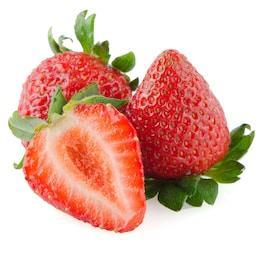Fresa: (129, 47, 240, 189), (15, 45, 136, 155)
